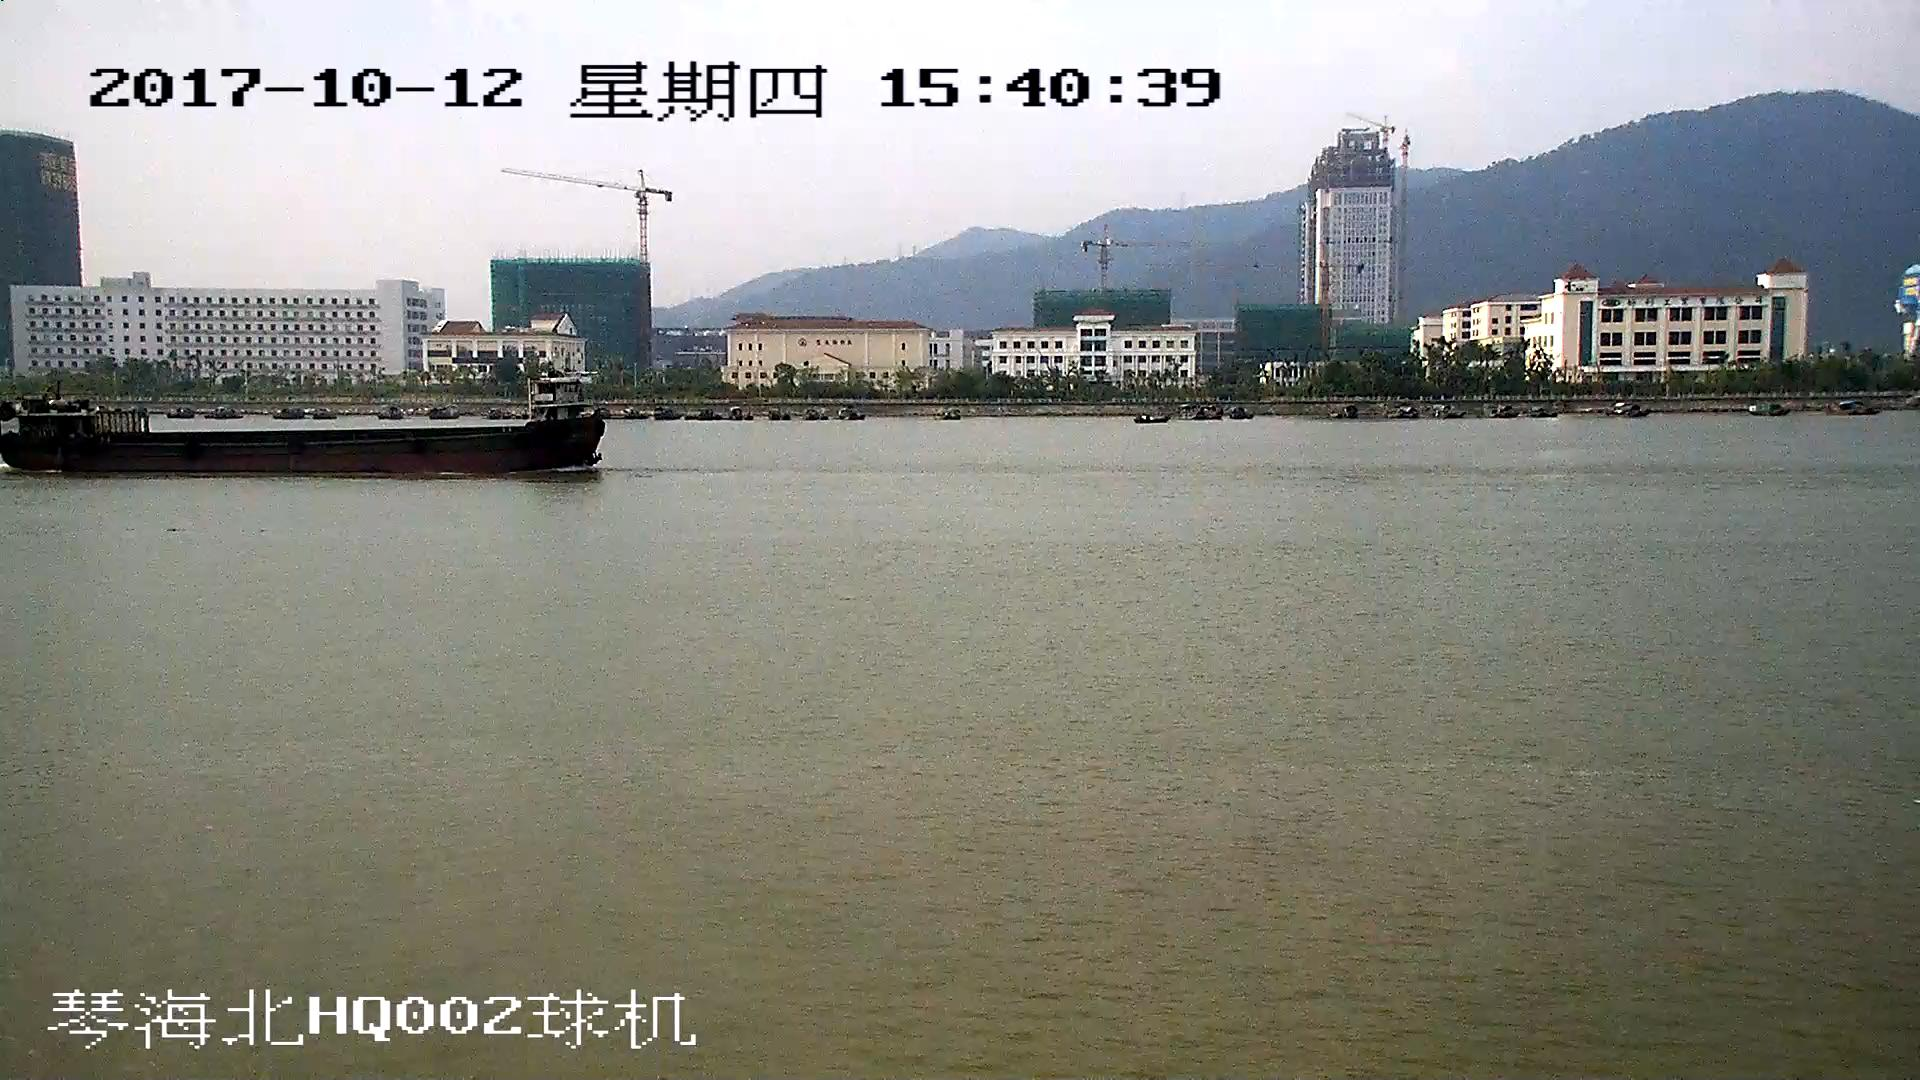general cargo ship: (1, 381, 603, 475)
